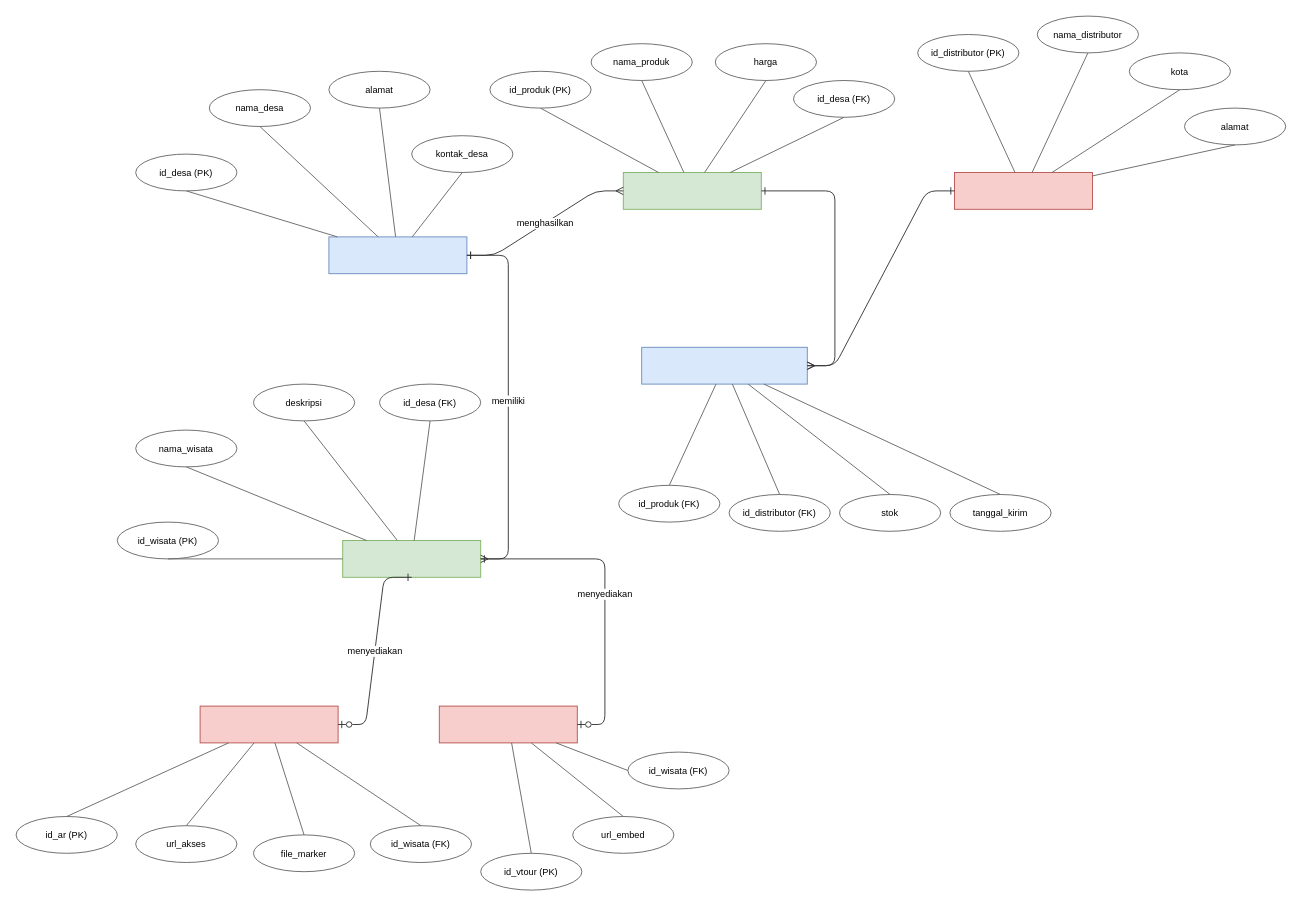
This 1302x906 diagram has some shape labels left out. Here are the shapes that lost their labels. From the top down, the centre of each, then its label:
At (x=691, y=190): "PRODUK_UNGGULAN".
At (x=1023, y=190): "DISTRIBUTOR".
At (x=397, y=255): "DESA".
At (x=724, y=365): "DISTRIBUSI_PRODUK".
At (x=411, y=558): "TEMPAT_WISATA".
At (x=268, y=724): "AUGMENTED_REALITY".
At (x=507, y=724): "VIRTUAL_TOUR".
